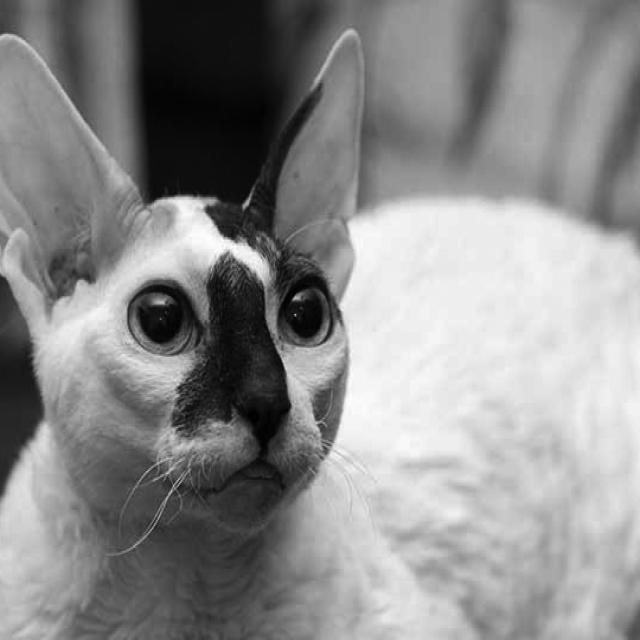Cornish Rex: (0, 18, 640, 640)
